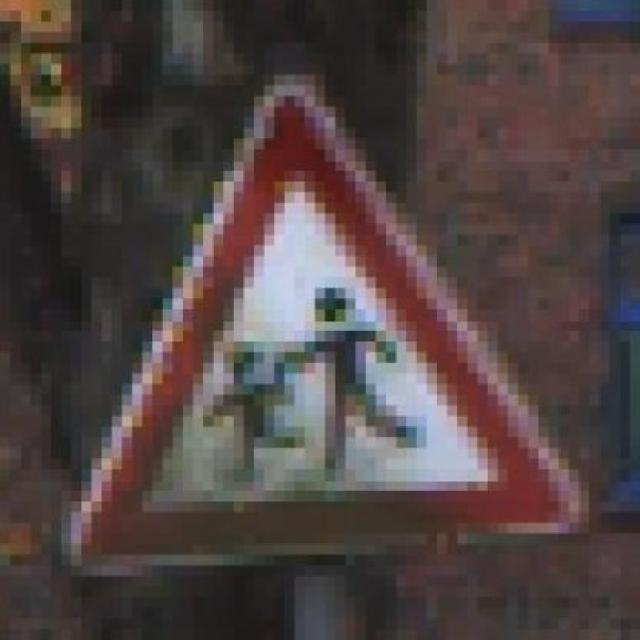Beware of children: (61, 64, 599, 587)
